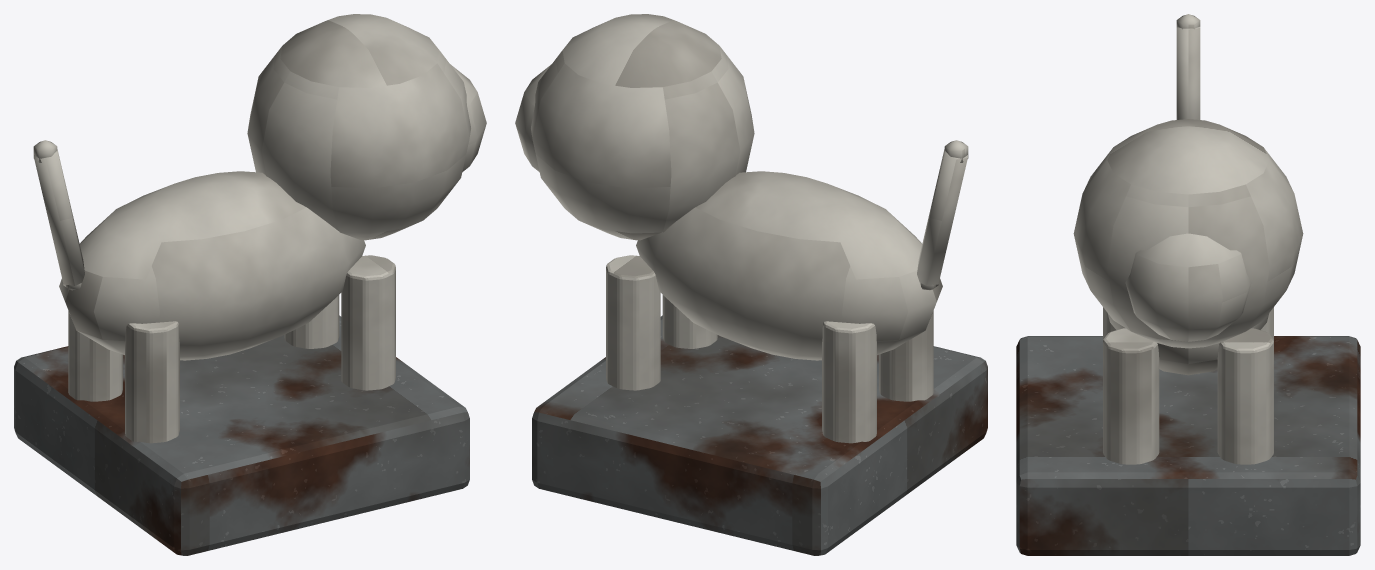
File: P03_animal_statue_v2_lion.glb
The picture shows the model from 3 angles, left to right: view 1: azimuth 30°, elevation 25°; view 2: azimuth 150°, elevation 25°; view 3: azimuth 270°, elevation 25°; orthographic projection.
Visible parts, largest first — view 1: P03_animal_statue_v2_lion; view 2: P03_animal_statue_v2_lion; view 3: P03_animal_statue_v2_lion.
Part boxes in pixels (x1,y1,x2,y2): P03_animal_statue_v2_lion: (14,14,486,555); P03_animal_statue_v2_lion: (515,14,987,555); P03_animal_statue_v2_lion: (1016,14,1360,555).
Bounding box in the file's own units: 0.6 × 0.5313 × 0.3985.
Materials: 3 (3 with a texture image).
